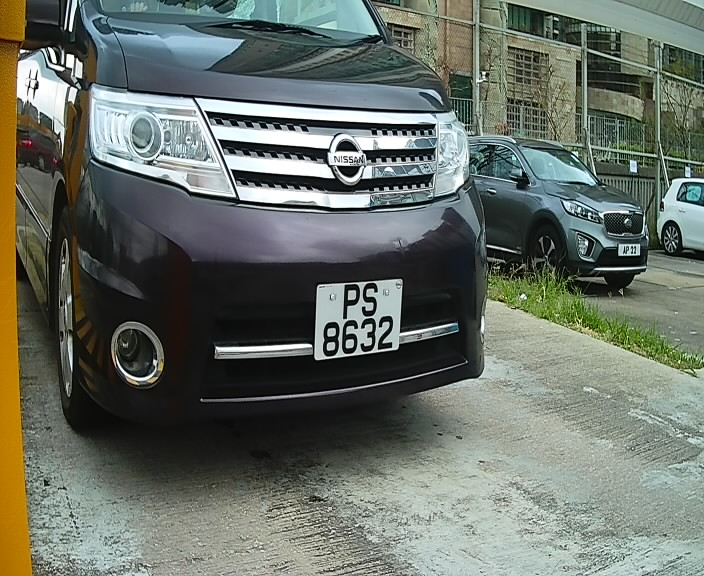Car: (2, 2, 503, 470)
License Plate: (309, 275, 412, 368)
